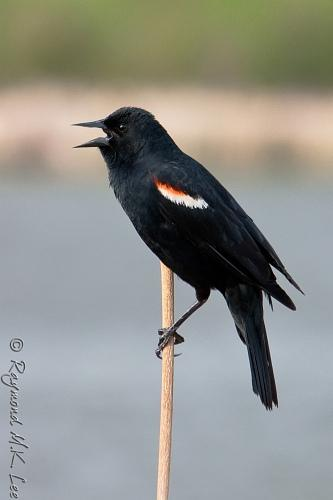010.Red_winged_Blackbird: (70, 101, 304, 416)
